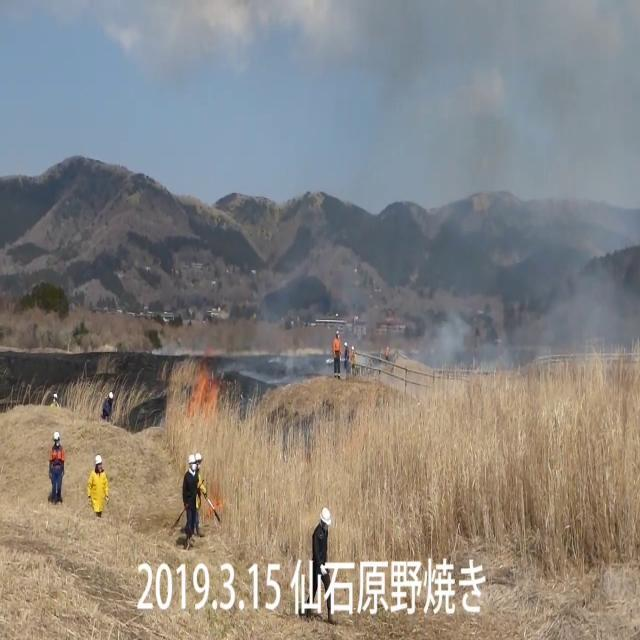Smoke: (401, 22, 640, 381)
